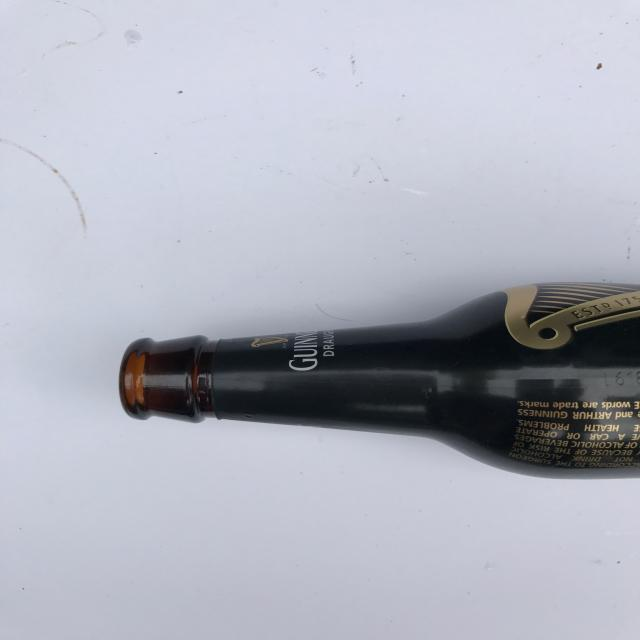glass: (118, 280, 639, 480)
